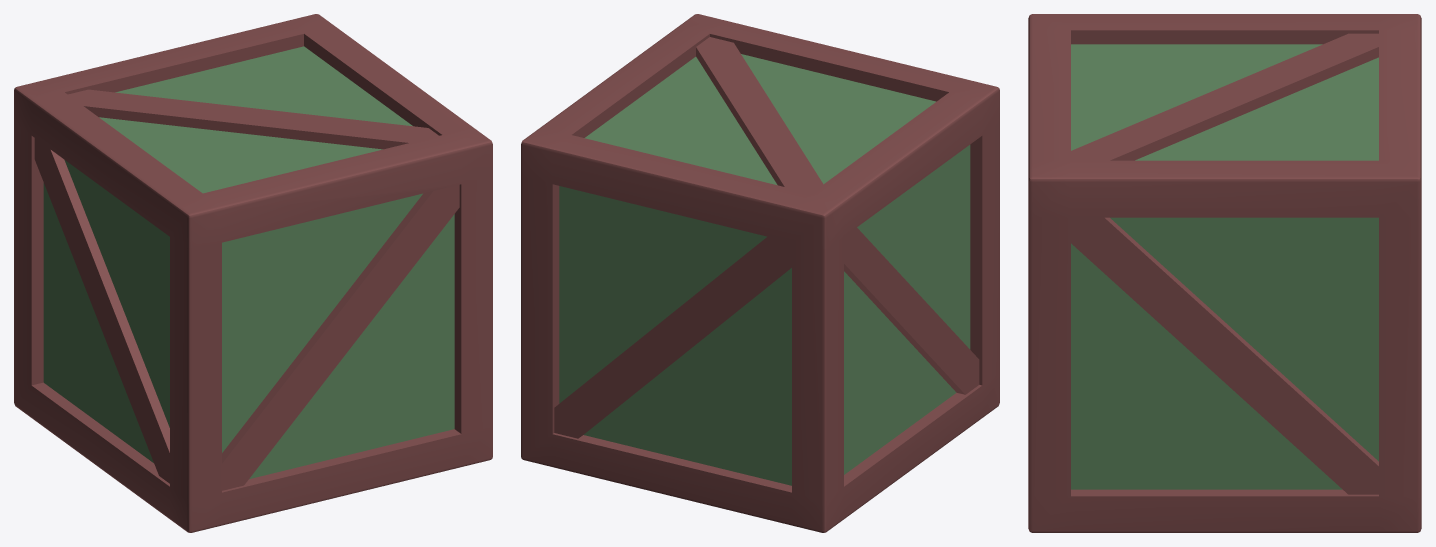
The model's file is Crate_Diagonal_Wood_Cathedral_Low.fbx.
3 renders of one model, left to right at view 1: azimuth 30°, elevation 25°; view 2: azimuth 150°, elevation 25°; view 3: azimuth 270°, elevation 25°, orthographic. The views are drawn at different scales.
Visible parts, largest first — view 1: Crate_Diagonal_Wood_Cathedral_Low; view 2: Crate_Diagonal_Wood_Cathedral_Low; view 3: Crate_Diagonal_Wood_Cathedral_Low.
Part boxes in pixels (bbox=[...]): Crate_Diagonal_Wood_Cathedral_Low: bbox=[14, 14, 492, 532]; Crate_Diagonal_Wood_Cathedral_Low: bbox=[521, 14, 999, 532]; Crate_Diagonal_Wood_Cathedral_Low: bbox=[1028, 14, 1421, 532].
Size of the model in its own units: 1.02 by 1.02 by 1.02.
